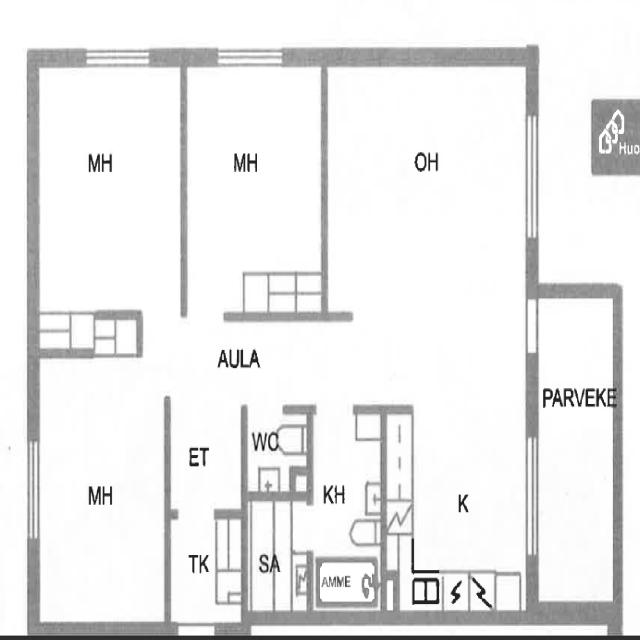window: (518, 103, 548, 253), (520, 428, 544, 570), (21, 428, 46, 550), (211, 42, 287, 70), (84, 45, 153, 70), (522, 288, 543, 366)
zone: (325, 59, 528, 302), (33, 59, 184, 348), (31, 339, 168, 633), (185, 58, 324, 317), (384, 402, 532, 617), (309, 406, 385, 606), (168, 322, 244, 522), (242, 316, 310, 498), (168, 508, 245, 634), (245, 496, 310, 619), (313, 553, 383, 609)
